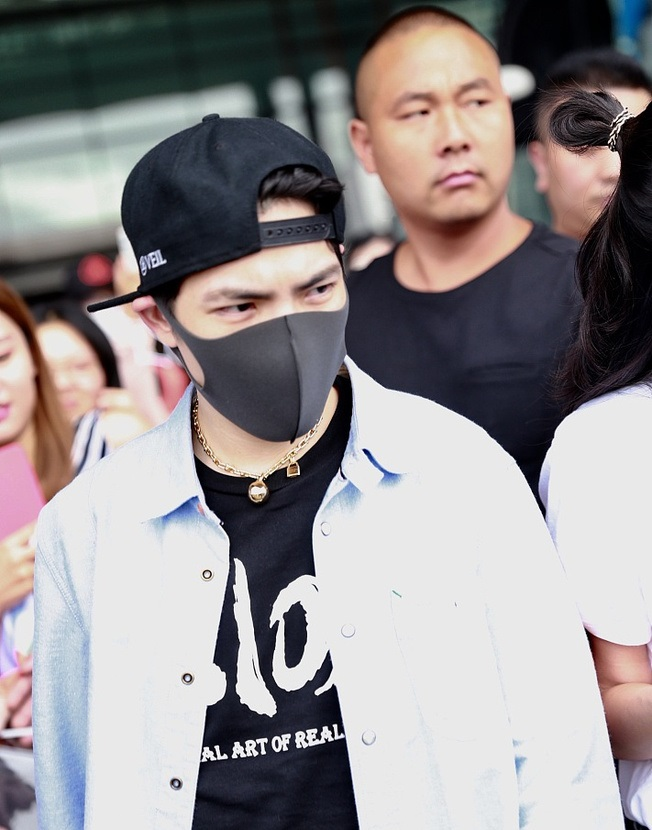face: (372, 21, 510, 223), (547, 97, 645, 233), (32, 328, 100, 430), (1, 319, 38, 442)
face_mask: (177, 207, 348, 448)
